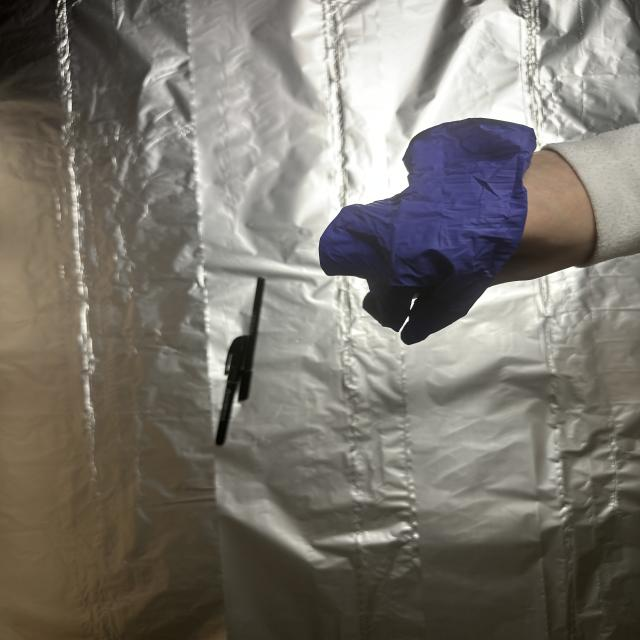glove_not_fitted: (314, 112, 610, 344)
